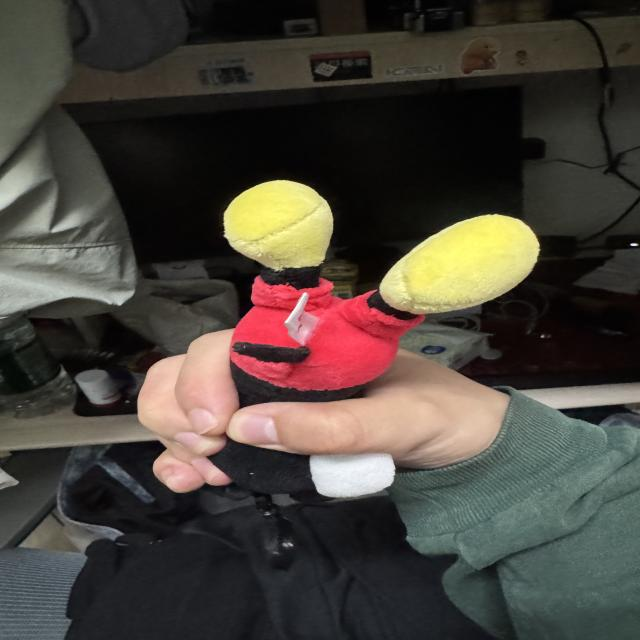mickey: (225, 181, 538, 406)
tissue: (388, 326, 493, 371), (403, 326, 487, 364)
